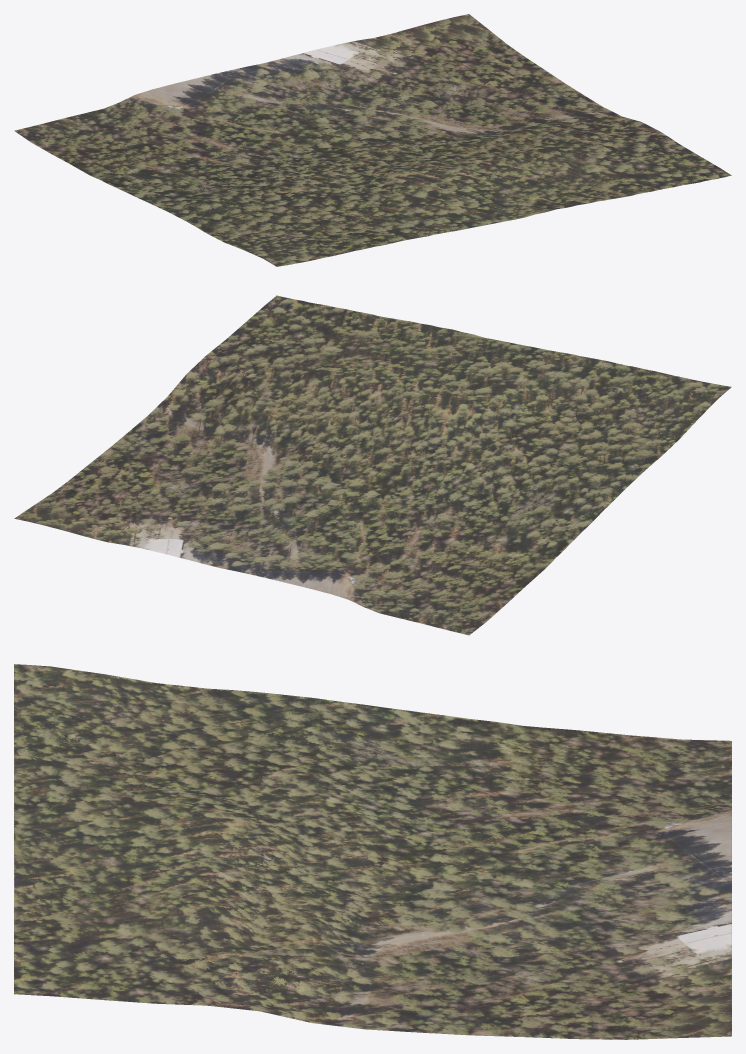
The model's file is CM_Terrain_24491278_6816927.fbx.
The picture shows the model from 3 angles, top to bottom: view 1: azimuth 30°, elevation 25°; view 2: azimuth 150°, elevation 25°; view 3: azimuth 270°, elevation 25°; orthographic projection. The views are drawn at different scales.
Visible parts, largest first — view 1: CM_Terrain_24491278_6816927_LOD0; view 2: CM_Terrain_24491278_6816927_LOD0; view 3: CM_Terrain_24491278_6816927_LOD0.
Boxes of the visible parts, left/top/right/bottom form: CM_Terrain_24491278_6816927_LOD0: left=14, top=14, right=731, bottom=266; CM_Terrain_24491278_6816927_LOD0: left=14, top=295, right=731, bottom=635; CM_Terrain_24491278_6816927_LOD0: left=14, top=664, right=731, bottom=1039.
Size of what is drawn, in the model's own units: 205 by 24.16 by 205.
